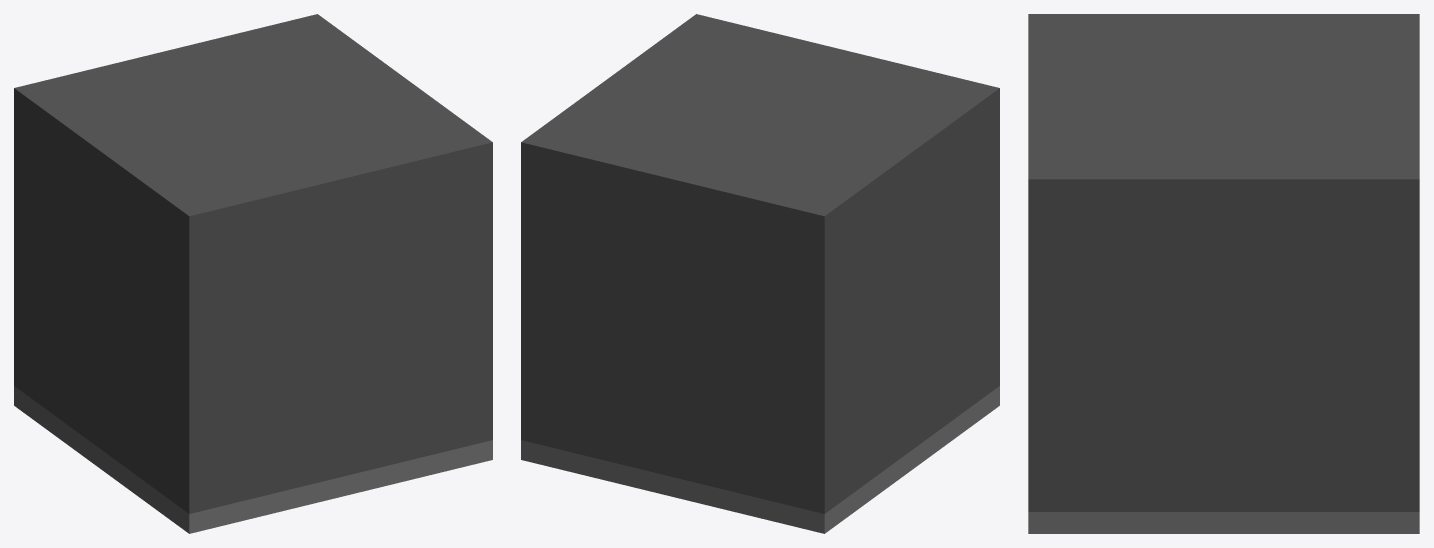
File: FillerWall.obj
The picture shows the model from 3 angles, left to right: view 1: azimuth 30°, elevation 25°; view 2: azimuth 150°, elevation 25°; view 3: azimuth 270°, elevation 25°; orthographic projection. The views are drawn at different scales.
Parts seen in each view (by area): view 1: FillerWall; view 2: FillerWall; view 3: FillerWall.
Part boxes in pixels (x1,y1,x2,y2): FillerWall: (14, 14, 492, 533); FillerWall: (521, 14, 999, 533); FillerWall: (1028, 14, 1419, 533).
Bounding box in the file's own units: 32 × 32 × 32.
